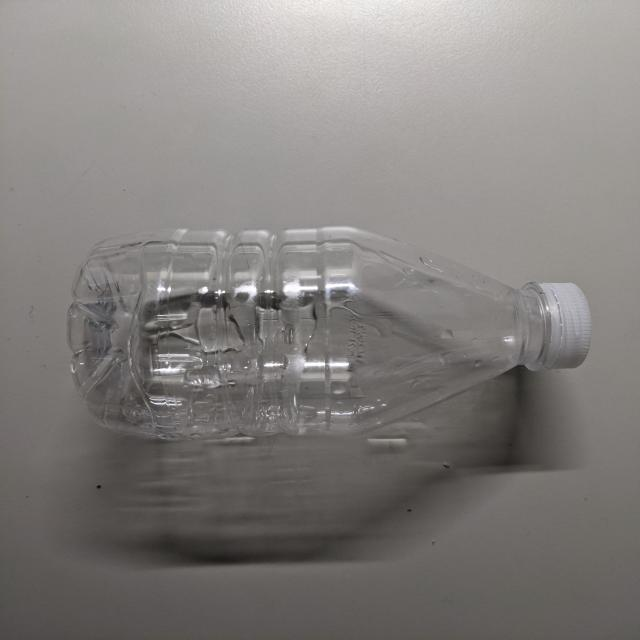Plastic: (73, 228, 599, 440)
